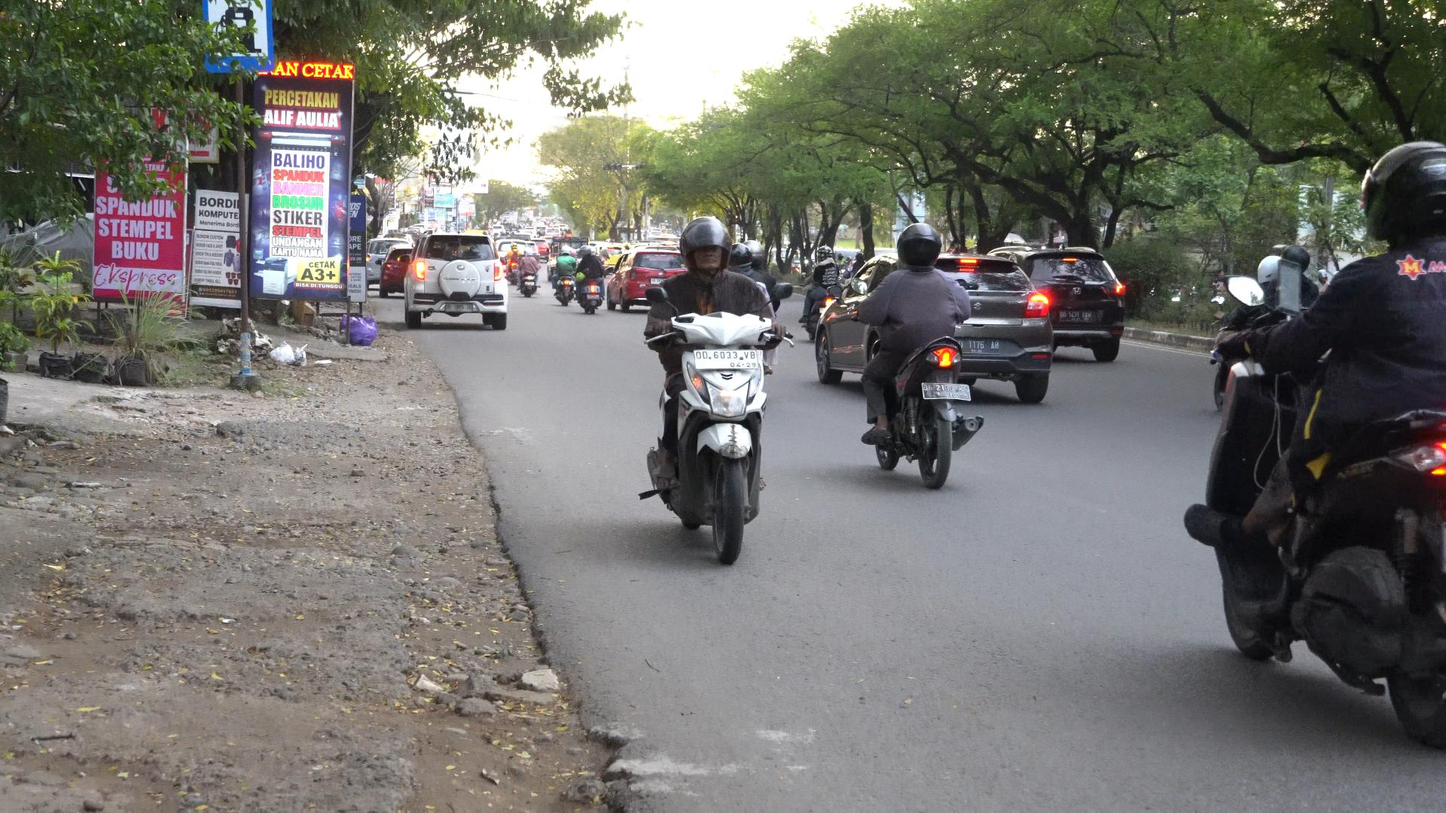number-plate: (690, 345, 763, 377)
